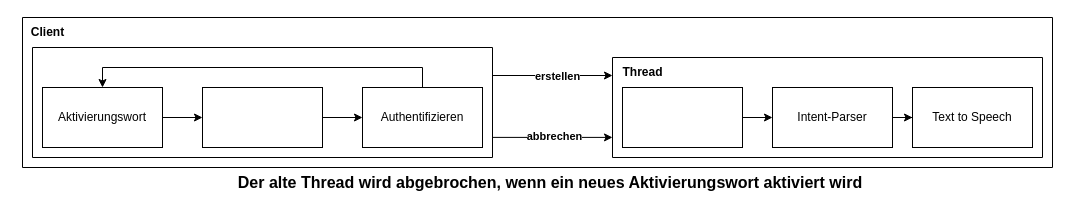
Image size: 1070x215. Some labels were removed from this diagram. The shapes that lost their labels are listed below. From the top down, each one's centre as x and y in pixels, then its label:
At [262,117]: "Befehl".
At [682,117]: "Klassifizierung".
